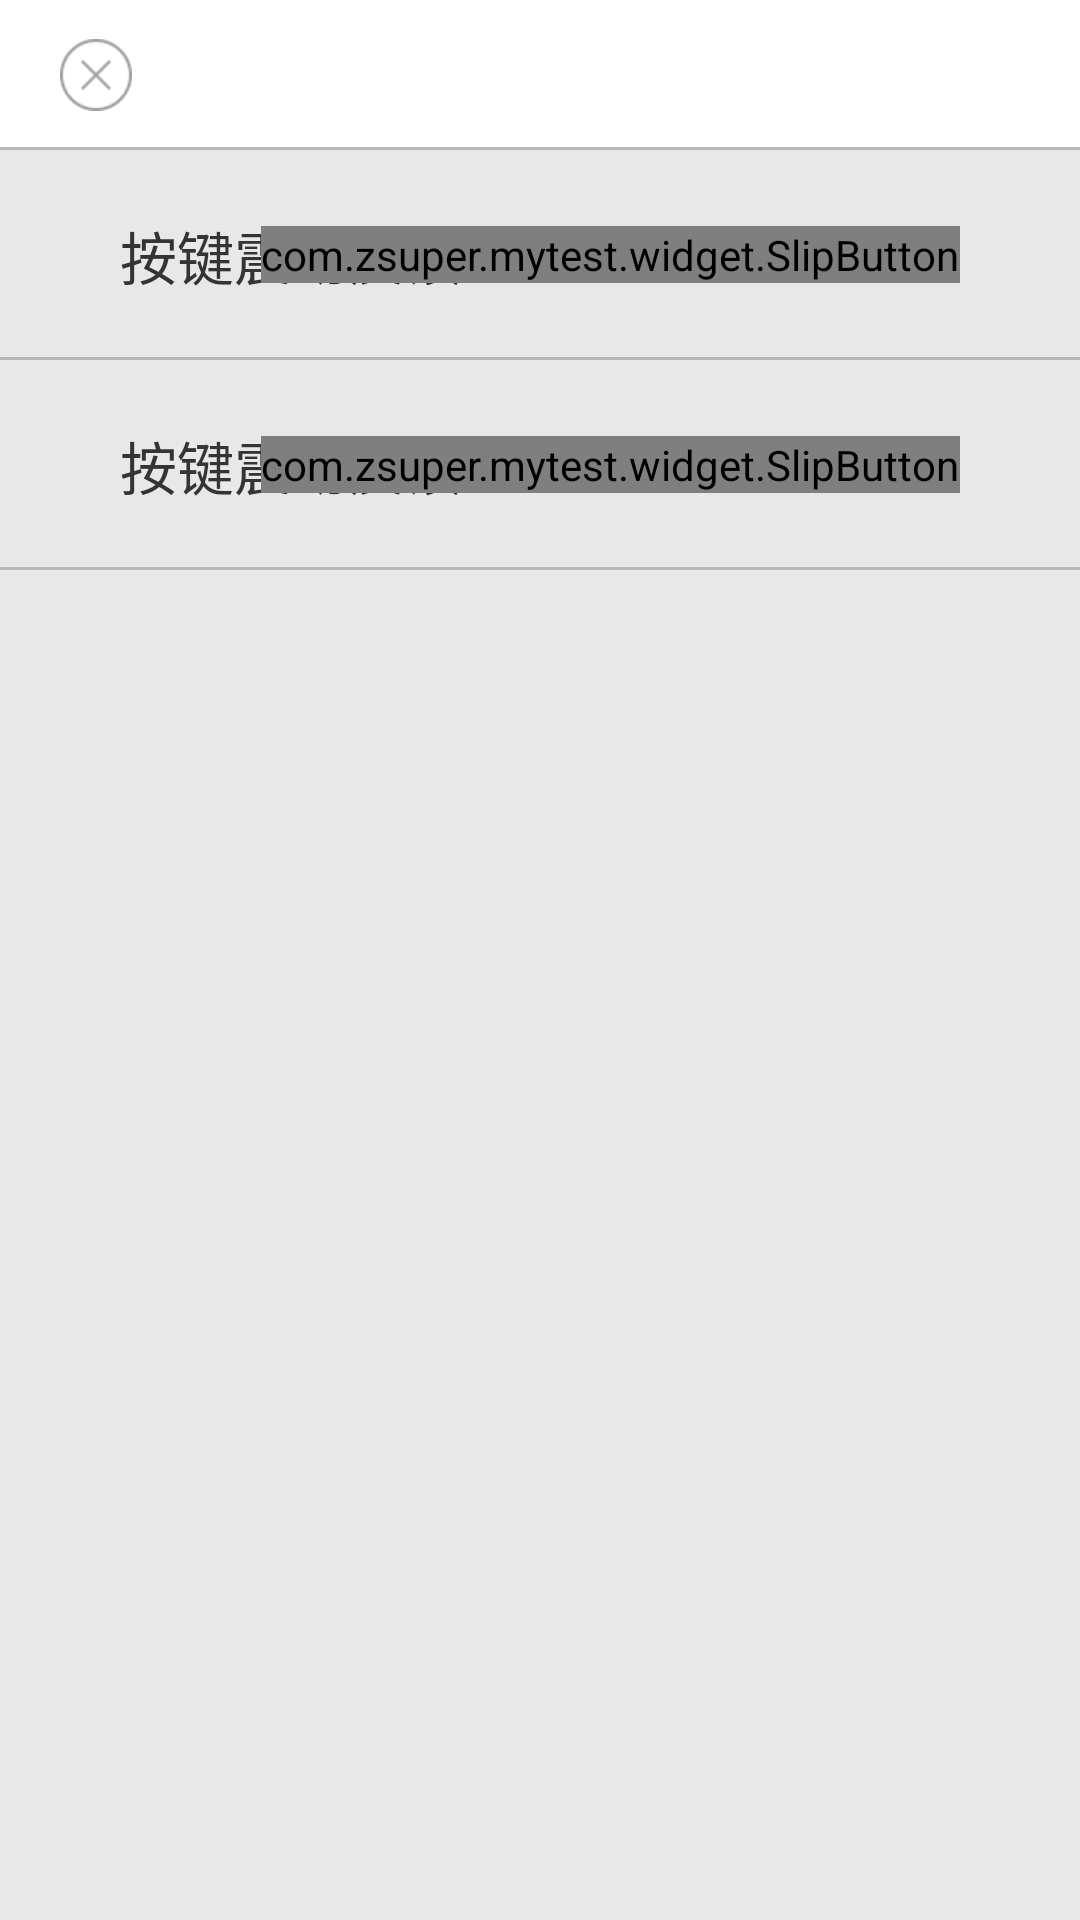

Icon click points for this 1080 x 1920 phone screenshot, format (x,y):
title bt close states: (96,75)
